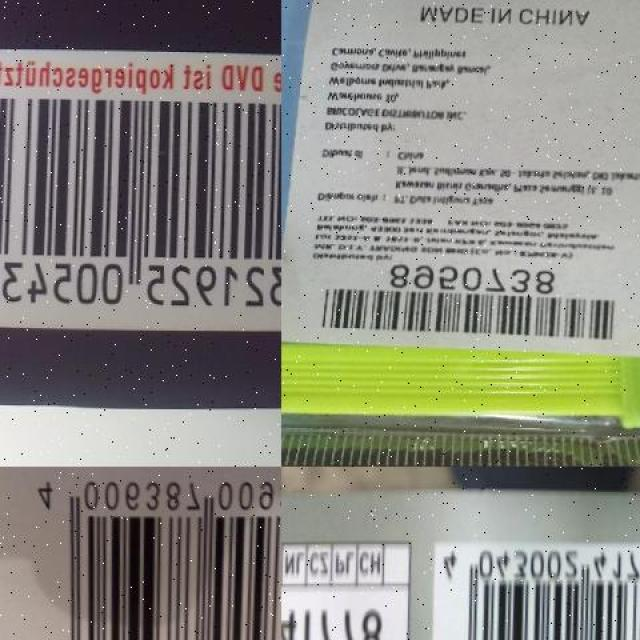Barcode: (0, 52, 281, 326), (22, 466, 281, 640), (297, 262, 636, 346), (432, 541, 640, 640)
